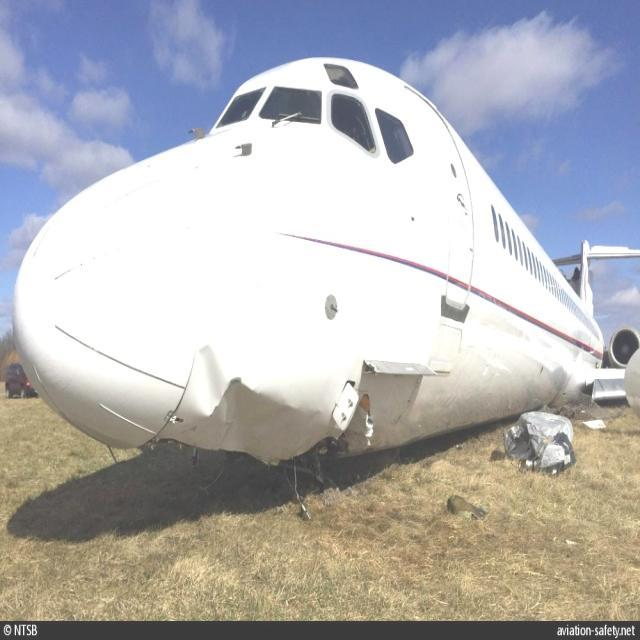dent: (194, 343, 230, 420)
